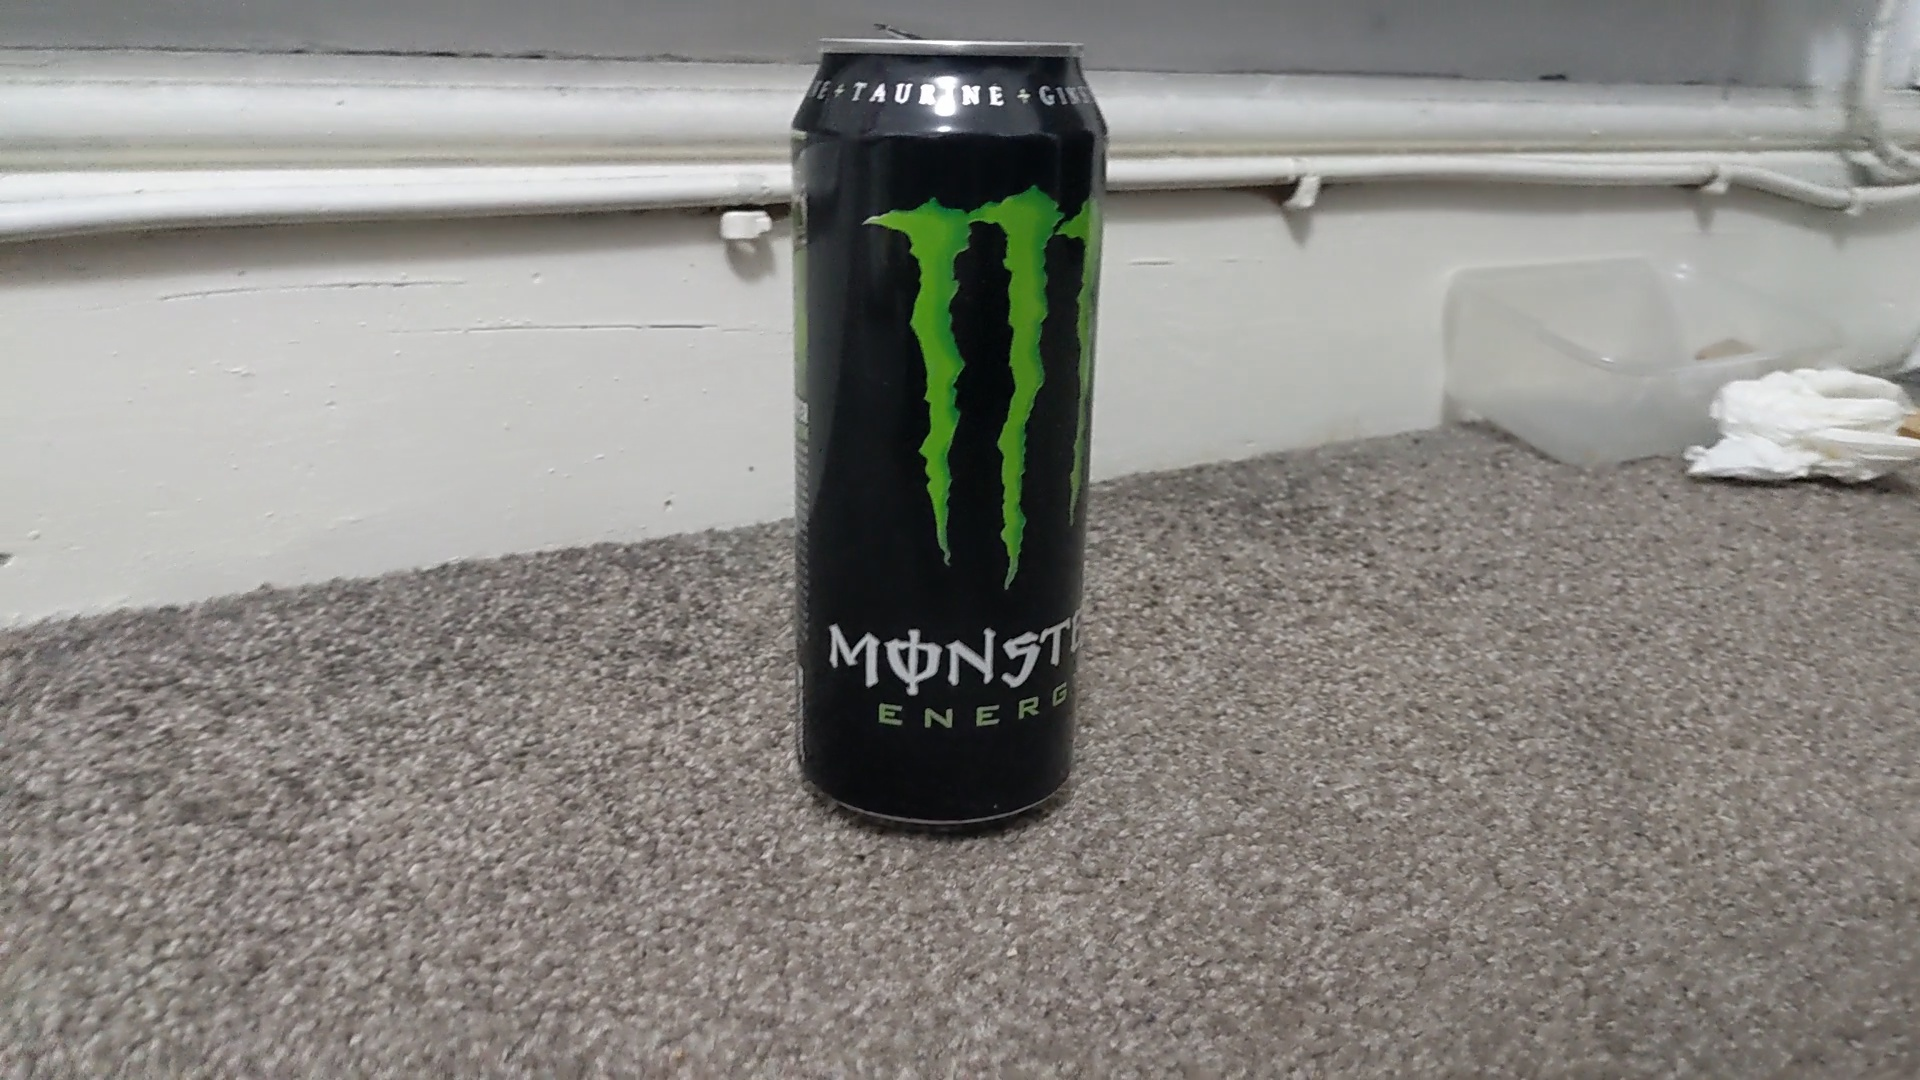monster-original: (783, 30, 1114, 843)
